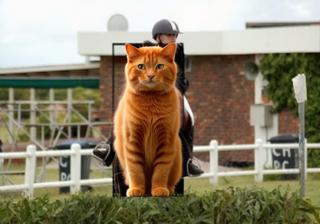cat: (112, 43, 183, 196)
person: (91, 19, 206, 178)
